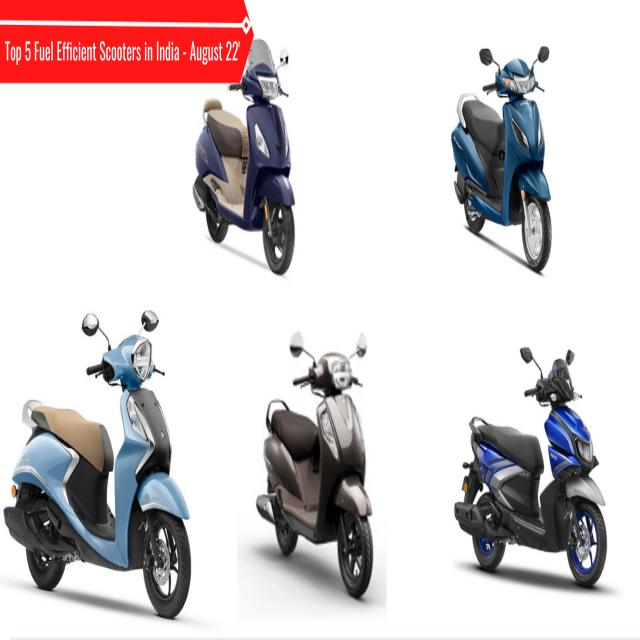motorcycle: (4, 311, 191, 618), (455, 351, 608, 586), (256, 353, 372, 597), (192, 40, 295, 274), (451, 49, 551, 270), (521, 347, 538, 363), (535, 47, 549, 61)
